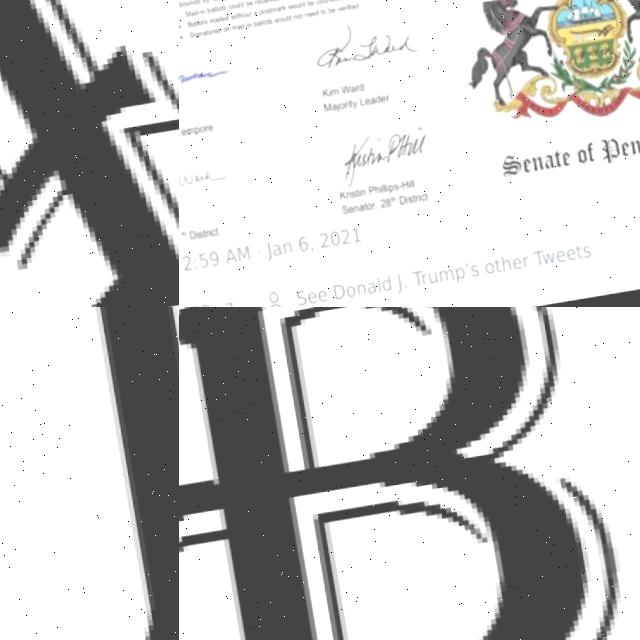0: (318, 234, 330, 251)
1: (338, 230, 351, 248)
2: (307, 235, 318, 253), (328, 232, 339, 249), (368, 203, 376, 213)
5: (187, 253, 197, 270)
6: (286, 238, 297, 255)
7: (211, 302, 222, 307)
8: (374, 201, 381, 212)
9: (197, 251, 209, 269)
A: (0, 0, 179, 307)
B: (179, 307, 610, 640), (85, 307, 179, 640)
